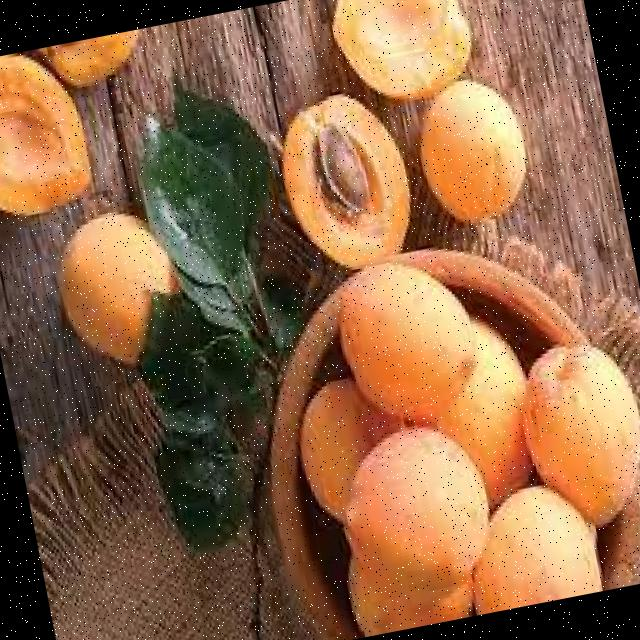Cekirdek: (316, 123, 368, 209)
Kayisi: (338, 263, 529, 502)
Yaprak: (140, 89, 273, 329)
